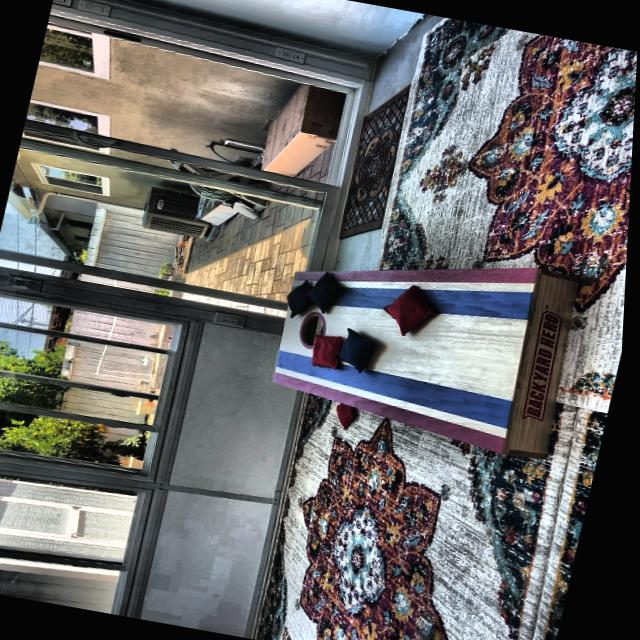blue-bean-bag: (333, 324, 386, 373), (302, 268, 344, 314), (283, 276, 318, 320)
board: (272, 264, 535, 428)
hole: (297, 308, 332, 349)
red-bean-bag: (380, 280, 442, 340), (312, 333, 345, 369), (333, 401, 362, 431)
